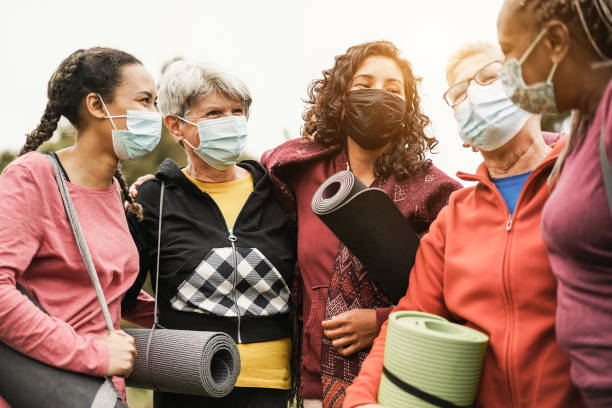with mask: (489, 1, 607, 117), (47, 54, 162, 165), (158, 59, 257, 167), (437, 46, 542, 144), (328, 45, 417, 148)
